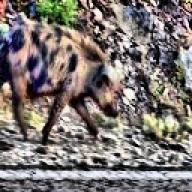boar: (0, 4, 124, 145)
